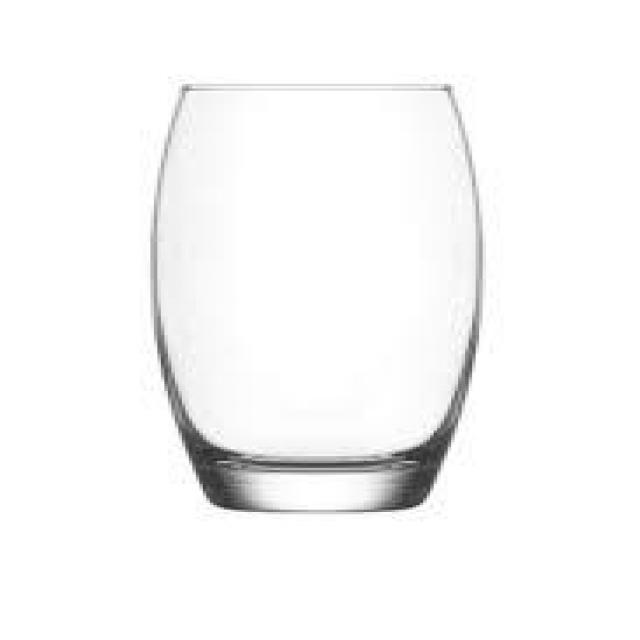non-organic waste: (145, 74, 488, 514)
